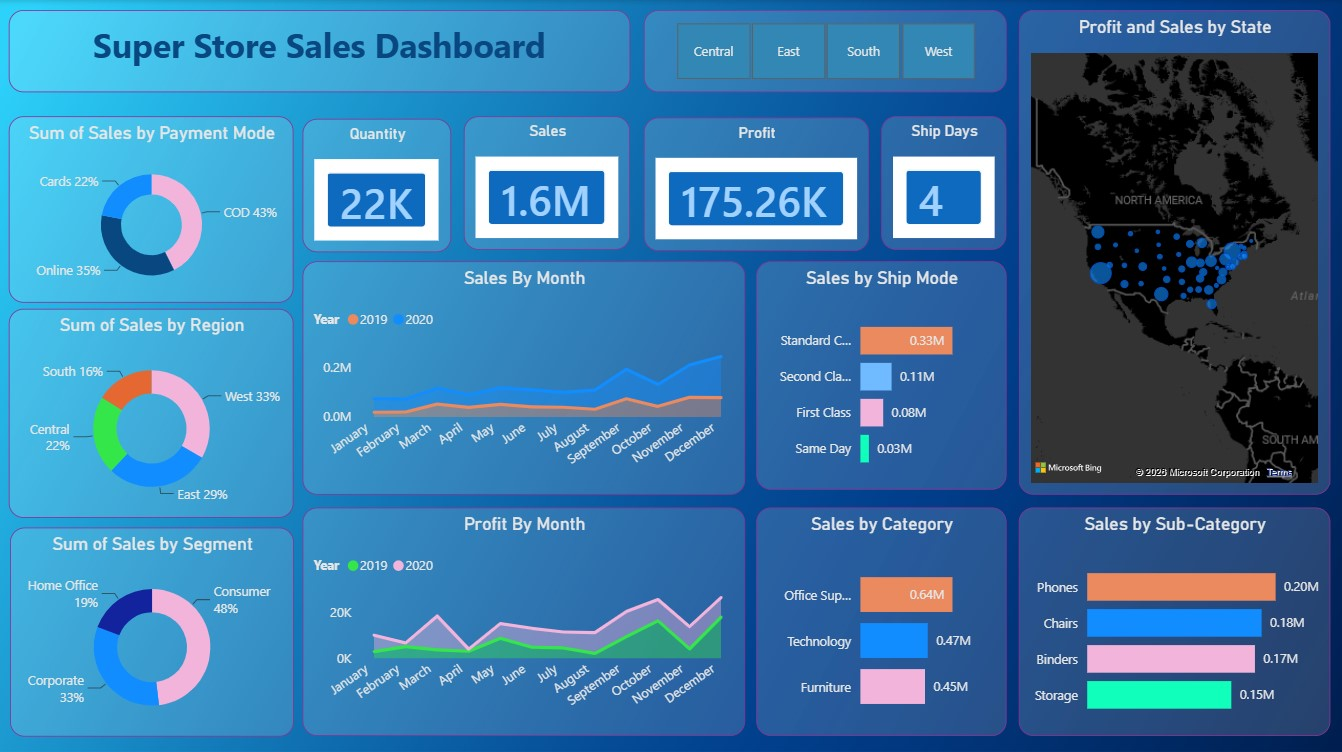

What the dashboard file says about the page in this screenshot:
{"tool":"powerbi","page":{"name":"Page 1","canvas":[1280,720],"ordinal":0},"visuals":[{"type":"clusteredBarChart","title":"Sales by Category","fields":{"Category":["SuperStore_Sales_Dataset.Category"],"Y":["Sum(SuperStore_Sales_Dataset.Sales)"]},"box":[720.2,483.3,238.1,217.9],"z":0},{"type":"clusteredBarChart","title":"Sales by Sub-Category","fields":{"Category":["SuperStore_Sales_Dataset.Sub-Category"],"Y":["Sum(SuperStore_Sales_Dataset.Sales)"]},"box":[970.2,483.3,296.4,217.9],"z":1000},{"type":"clusteredBarChart","title":"Sales by Ship Mode","fields":{"Y":["Sum(SuperStore_Sales_Dataset.Sales)"],"Category":["SuperStore_Sales_Dataset.Ship Mode"]},"box":[720.2,248.8,238.1,217.9],"z":2000},{"type":"stackedAreaChart","title":"Sales By Month","fields":{"Y":["Sum(SuperStore_Sales_Dataset.Sales)"],"Category":["SuperStore_Sales_Dataset.Order Date.Variation.Date Hierarchy.Month","SuperStore_Sales_Dataset.Order Date.Variation.Date Hierarchy.Day"],"Series":["SuperStore_Sales_Dataset.Order Date.Variation.Date Hierarchy.Year"]},"box":[288.1,248.8,421.4,222.6],"z":3000},{"type":"stackedAreaChart","title":"Profit By Month","fields":{"Category":["SuperStore_Sales_Dataset.Order Date.Variation.Date Hierarchy.Month","SuperStore_Sales_Dataset.Order Date.Variation.Date Hierarchy.Day"],"Series":["SuperStore_Sales_Dataset.Order Date.Variation.Date Hierarchy.Year"],"Y":["Sum(SuperStore_Sales_Dataset.Profit)"]},"box":[288.1,483.3,421.4,217.9],"z":4000},{"type":"map","title":"Profit and Sales by State","fields":{"Category":["SuperStore_Sales_Dataset.State"],"Size":["Sum(SuperStore_Sales_Dataset.Sales)"]},"box":[970.2,9.5,296.4,461.9],"z":5000},{"type":"donutChart","fields":{"Y":["Sum(SuperStore_Sales_Dataset.Sales)"],"Category":["SuperStore_Sales_Dataset.Region"]},"box":[8.3,294,271.4,198.8],"z":6000},{"type":"donutChart","fields":{"Category":["SuperStore_Sales_Dataset.Payment Mode"],"Y":["Sum(SuperStore_Sales_Dataset.Sales)"]},"box":[8.3,110.7,271.4,177.4],"z":7000},{"type":"slicer","fields":{"Values":["SuperStore_Sales_Dataset.Region"]},"box":[613.1,9.5,345.2,78.6],"z":8000},{"type":"textbox","box":[8.3,9.5,591.7,78.6],"z":9000},{"type":"cardVisual","title":"Sales","fields":{"Data":["Sum(SuperStore_Sales_Dataset.Sales)"]},"box":[441.7,110.7,158.3,127.4],"z":10000},{"type":"cardVisual","title":"Quantity","fields":{"Data":["Sum(SuperStore_Sales_Dataset.Quantity)"]},"box":[288.1,113.1,141.7,127.4],"z":11000},{"type":"cardVisual","title":"Profit","fields":{"Data":["Sum(SuperStore_Sales_Dataset.Profit)"]},"box":[613.1,111.9,214.3,127.4],"z":12000},{"type":"cardVisual","title":"Ship Days","fields":{"Data":["Avg(SuperStore_Sales_Dataset.AvgDelivery)"]},"box":[839.3,110.7,119,127.4],"z":13000},{"type":"donutChart","fields":{"Category":["SuperStore_Sales_Dataset.Segment"],"Y":["Sum(SuperStore_Sales_Dataset.Sales)"]},"box":[9.5,502.4,270.2,198.8],"z":14000}]}

Visuals, with their boxes in screenshot pixels (x1, y1, x2, y2), scaled from the page's 1280x720 canvas onto the 1342x752 screenshot:
"Sales by Category" clusteredBarChart: 755 505 1005 732
"Sales by Sub-Category" clusteredBarChart: 1017 505 1328 732
"Sales by Ship Mode" clusteredBarChart: 755 260 1005 487
"Sales By Month" stackedAreaChart: 302 260 744 492
"Profit By Month" stackedAreaChart: 302 505 744 732
"Profit and Sales by State" map: 1017 10 1328 492
donutChart - Sum(SuperStore_Sales_Dataset.Sales) x SuperStore_Sales_Dataset.Region: 9 307 293 515
donutChart - SuperStore_Sales_Dataset.Payment Mode x Sum(SuperStore_Sales_Dataset.Sales): 9 116 293 301
slicer - SuperStore_Sales_Dataset.Region: 643 10 1005 92
textbox: 9 10 629 92
"Sales" cardVisual: 463 116 629 249
"Quantity" cardVisual: 302 118 451 251
"Profit" cardVisual: 643 117 867 250
"Ship Days" cardVisual: 880 116 1005 249
donutChart - SuperStore_Sales_Dataset.Segment x Sum(SuperStore_Sales_Dataset.Sales): 10 525 293 732
